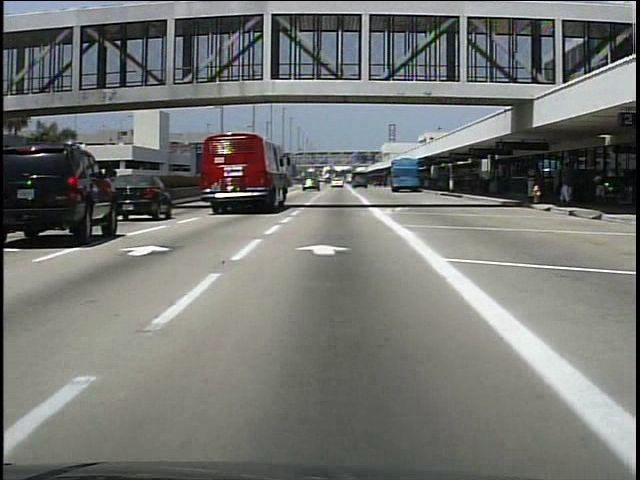person: (591, 168, 609, 212), (478, 167, 490, 193)
